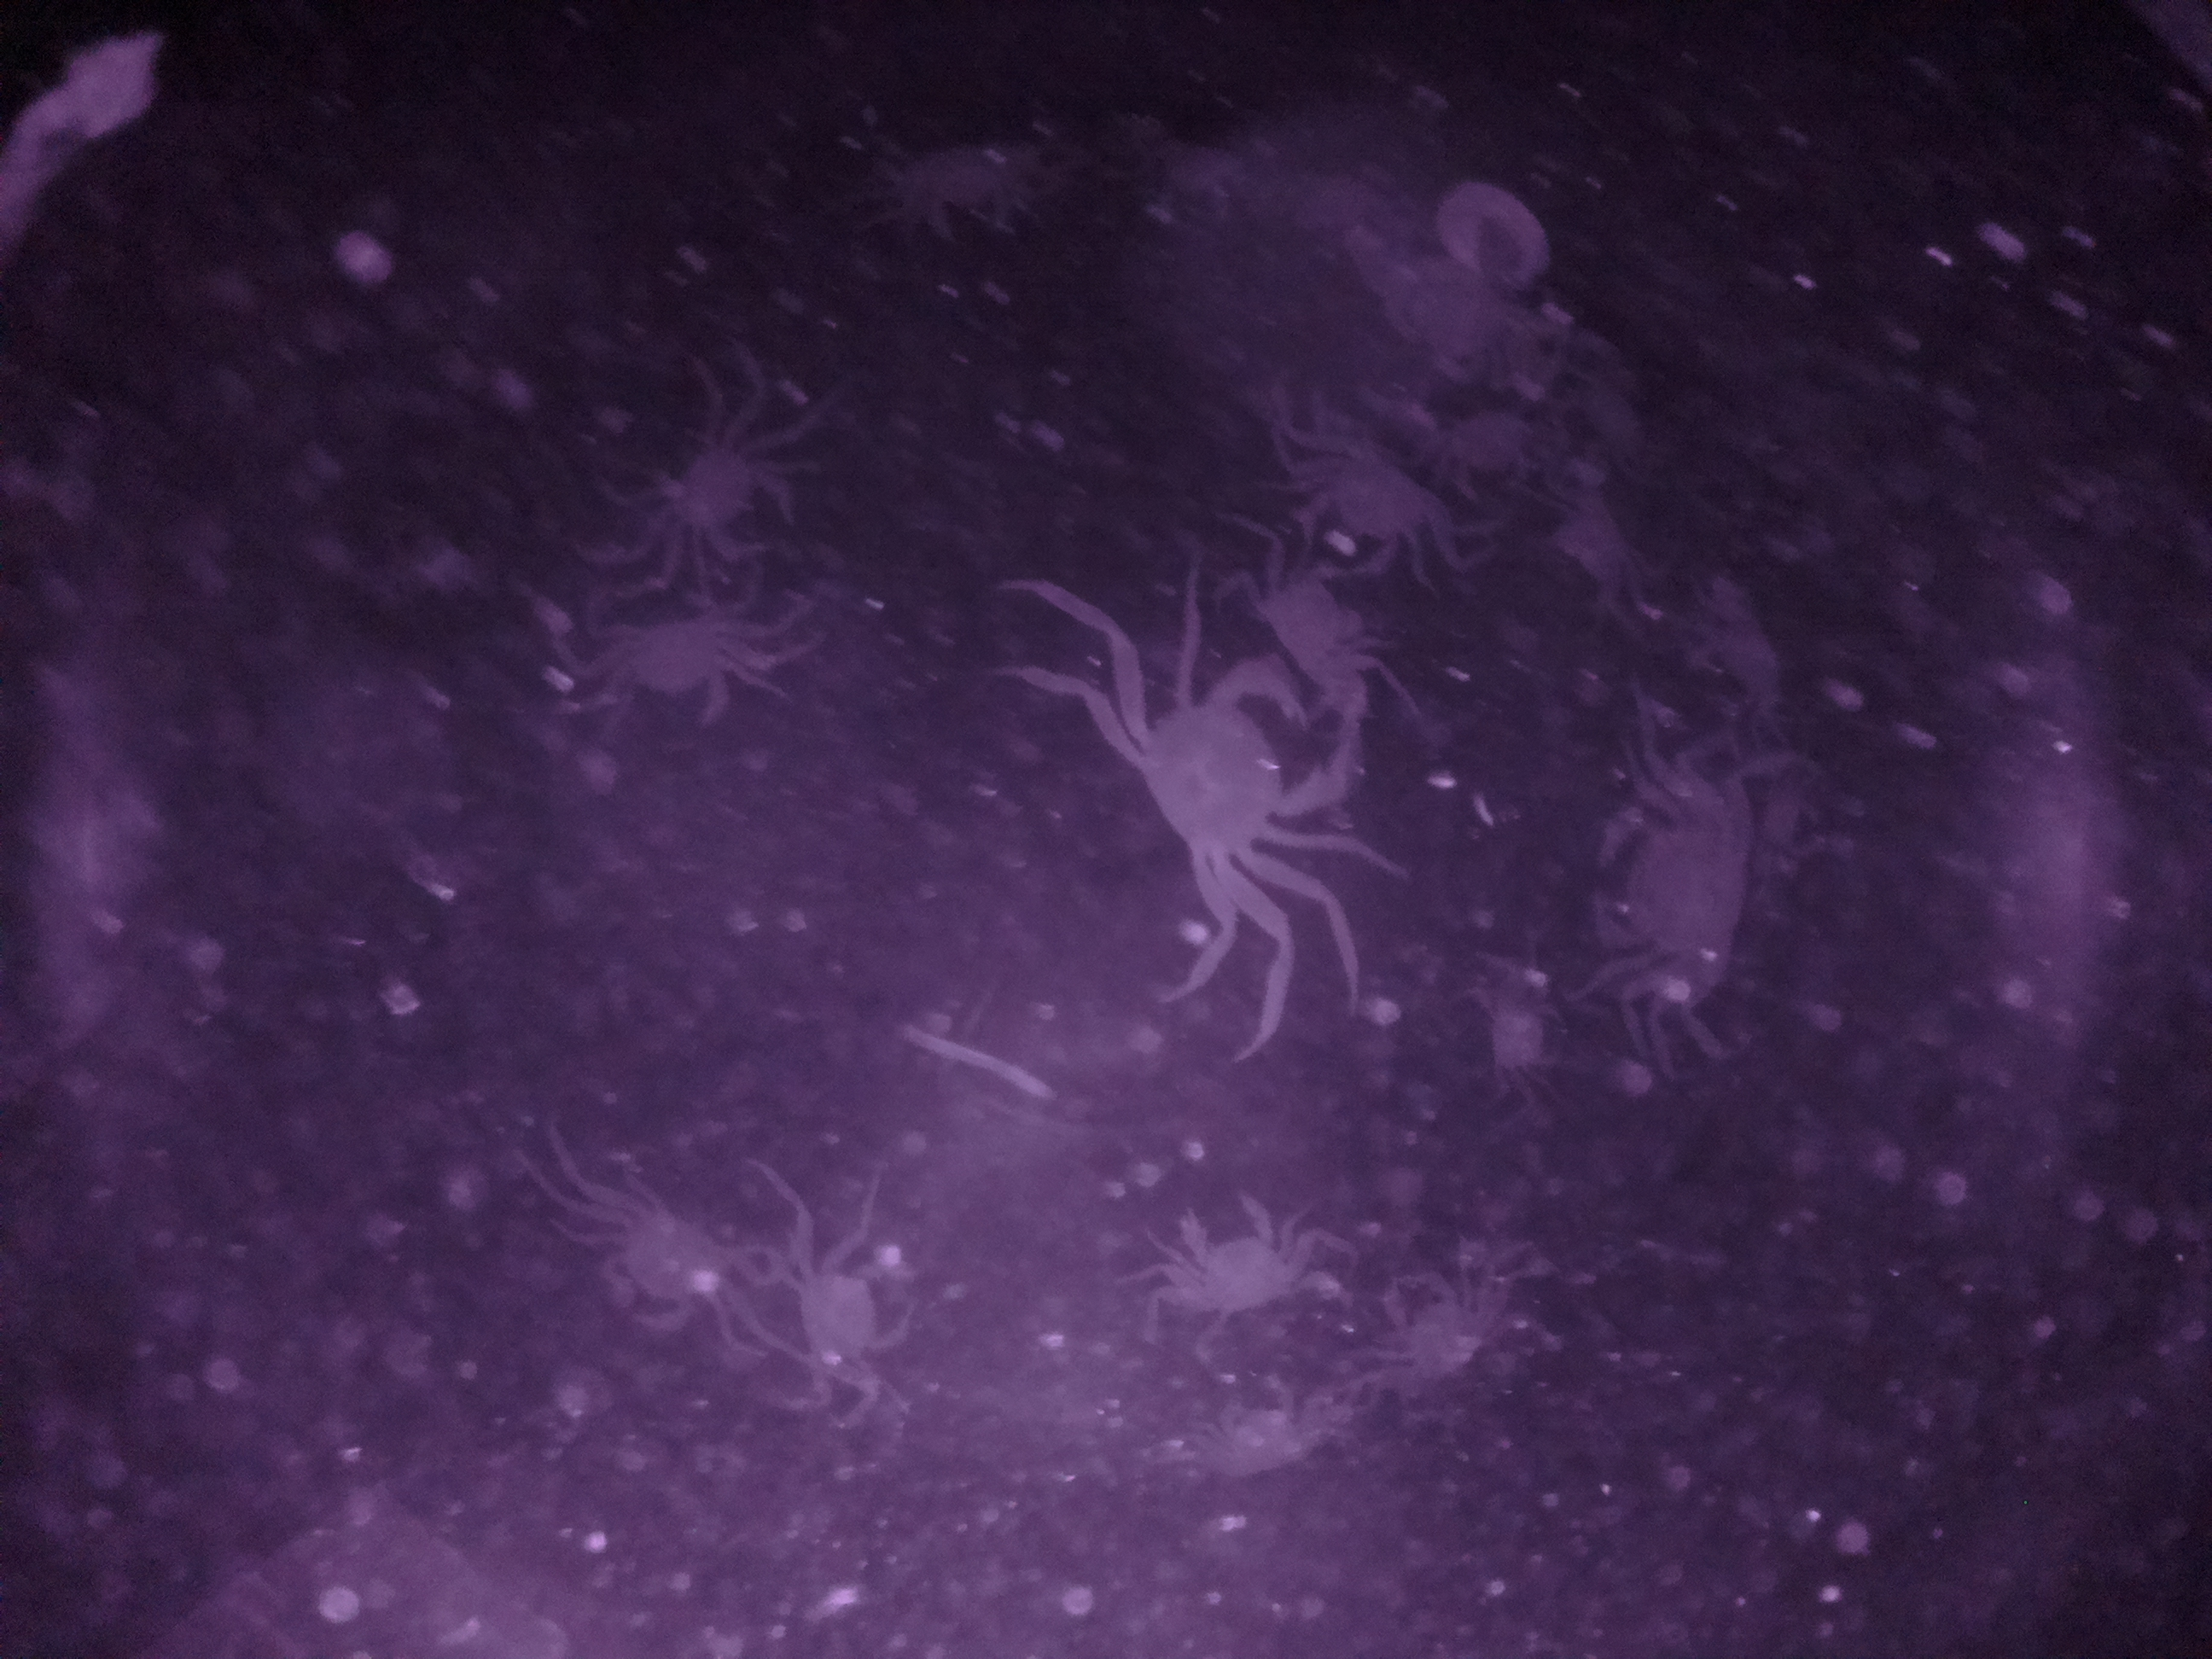Crab: (1101, 660, 1369, 910), (1575, 763, 1782, 1018), (1273, 415, 1479, 591), (777, 1208, 932, 1401), (578, 599, 789, 734), (1139, 1182, 1320, 1337), (644, 406, 796, 582)
